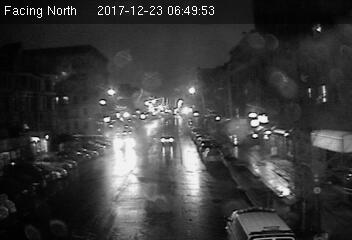car: (201, 146, 224, 162), (160, 135, 174, 146)
police: (221, 206, 294, 240)
